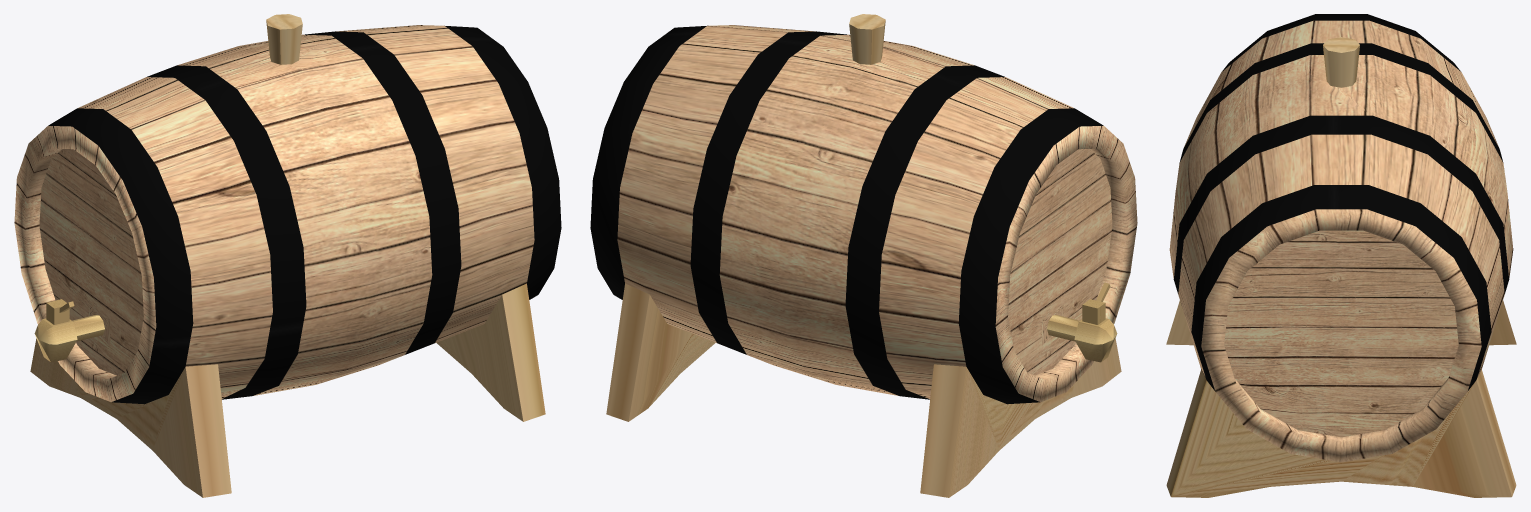
File: woodenKeg.fbx
The picture shows the model from 3 angles, left to right: view 1: azimuth 30°, elevation 25°; view 2: azimuth 150°, elevation 25°; view 3: azimuth 270°, elevation 25°; orthographic projection.
Visible parts, largest first — view 1: pCylinder1; view 2: pCylinder1; view 3: pCylinder1.
Part boxes in pixels (box(x1,y1,x2,y2)): pCylinder1: box(14, 14, 561, 497); pCylinder1: box(590, 14, 1137, 497); pCylinder1: box(1166, 14, 1516, 497).
Bounding box in the file's own units: 27.68 × 21.78 × 18.78.
Materials: 4 (4 with a texture image).
